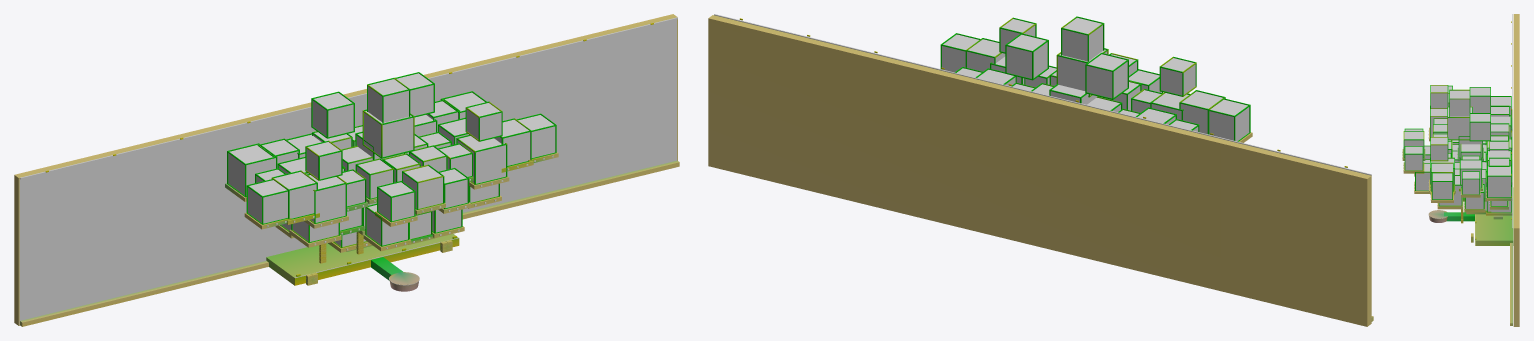
File: stage.glb
3 renders of one model, left to right at view 1: azimuth 30°, elevation 25°; view 2: azimuth 150°, elevation 25°; view 3: azimuth 270°, elevation 25°, orthographic. The views are drawn at different scales.
Visible parts, largest first — view 1: stage-kit; view 2: stage-kit; view 3: stage-kit.
Boxes of the visible parts, x1=… form: stage-kit: x1=14, y1=14, x2=679, y2=326; stage-kit: x1=708, y1=14, x2=1373, y2=326; stage-kit: x1=1402, y1=14, x2=1519, y2=326.
Bounding box in the file's own units: 160 × 43.78 × 37.08.
